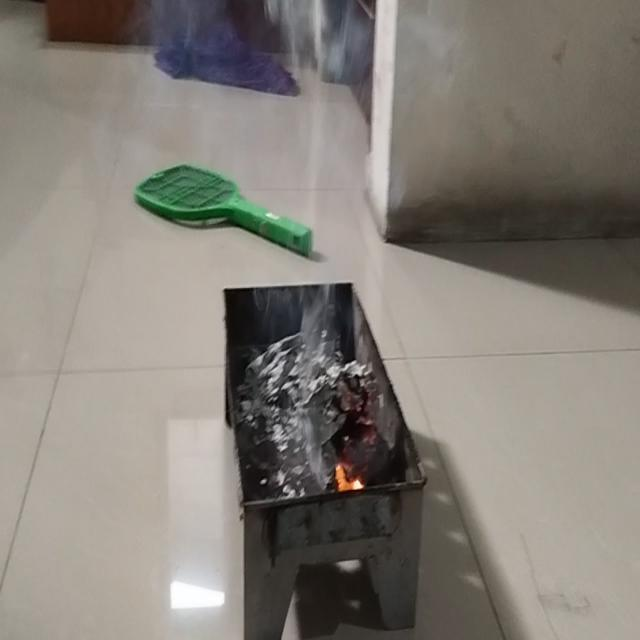fire: (142, 0, 372, 89)
